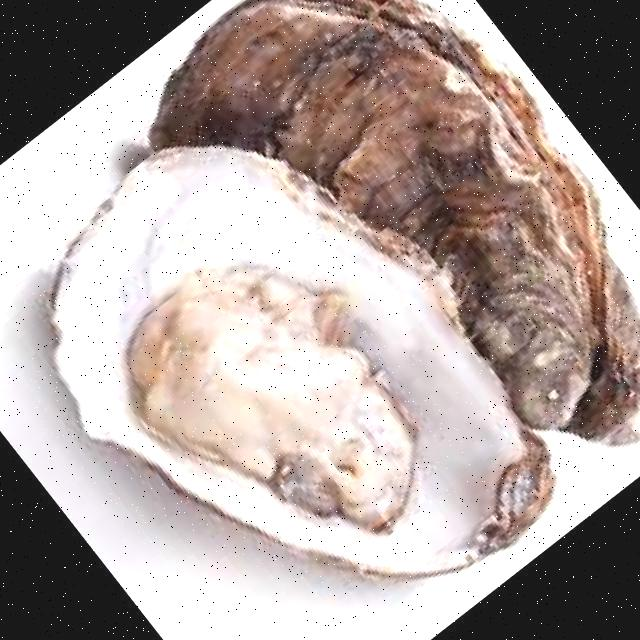Oyster-Closed: (147, 0, 640, 448)
Oyster-Open: (50, 148, 556, 582)
